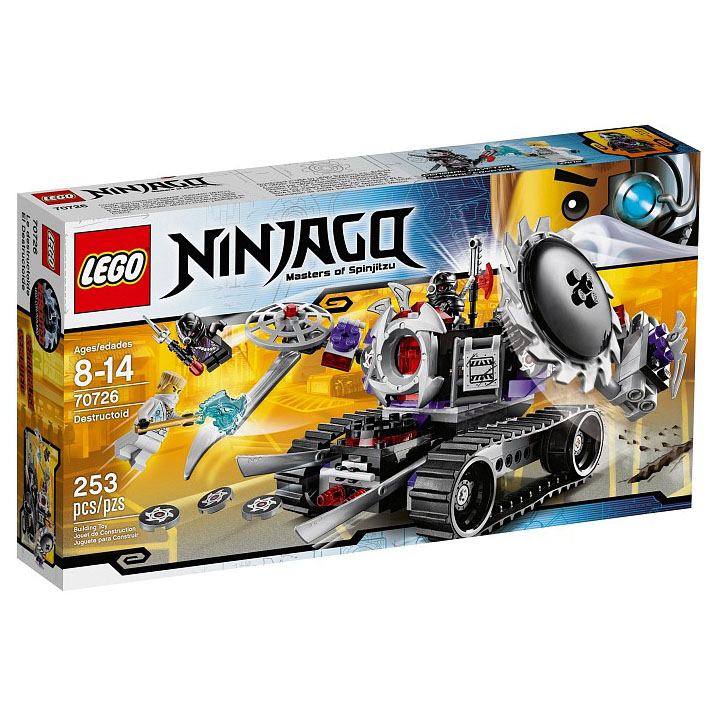LEGO: (67, 222, 158, 320), (27, 180, 94, 213), (37, 219, 65, 283)
